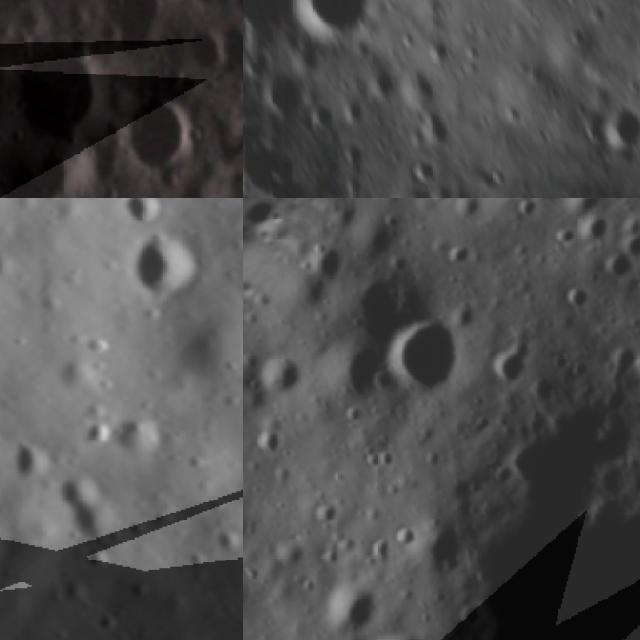crater: (375, 394, 640, 640), (0, 26, 122, 153), (359, 292, 481, 415), (110, 83, 220, 189), (106, 223, 213, 321), (34, 456, 136, 556), (330, 255, 428, 353), (73, 0, 185, 67), (243, 321, 326, 410), (313, 559, 395, 640), (290, 224, 368, 297), (0, 131, 83, 198), (2, 431, 68, 502), (170, 13, 237, 82), (338, 601, 455, 640), (106, 407, 174, 473), (477, 324, 544, 390), (291, 0, 377, 44), (200, 9, 243, 84), (113, 198, 179, 243), (74, 414, 126, 466), (595, 97, 640, 157), (262, 62, 306, 117), (243, 0, 264, 65), (624, 322, 640, 401), (208, 527, 243, 561), (303, 95, 337, 129), (408, 154, 442, 188), (243, 432, 257, 500), (281, 624, 336, 640)
